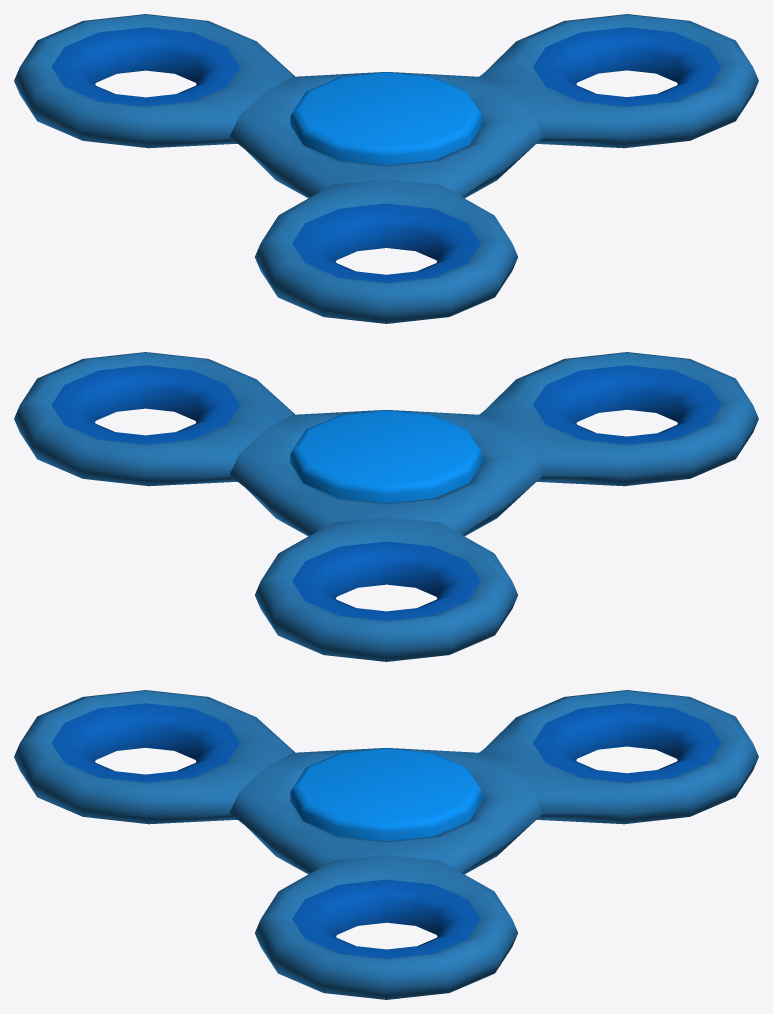
File: Spin_1.fbx
The picture shows the model from 3 angles, top to bottom: view 1: azimuth 30°, elevation 25°; view 2: azimuth 150°, elevation 25°; view 3: azimuth 270°, elevation 25°; orthographic projection.
Visible parts, largest first — view 1: Spin_1; view 2: Spin_1; view 3: Spin_1.
Boxes of the visible parts, <box> form: Spin_1: <box>14,14,758,323</box>; Spin_1: <box>14,352,758,661</box>; Spin_1: <box>14,690,758,999</box>.
Bounding box in the file's own units: 0.1569 × 0.0161 × 0.1721.
